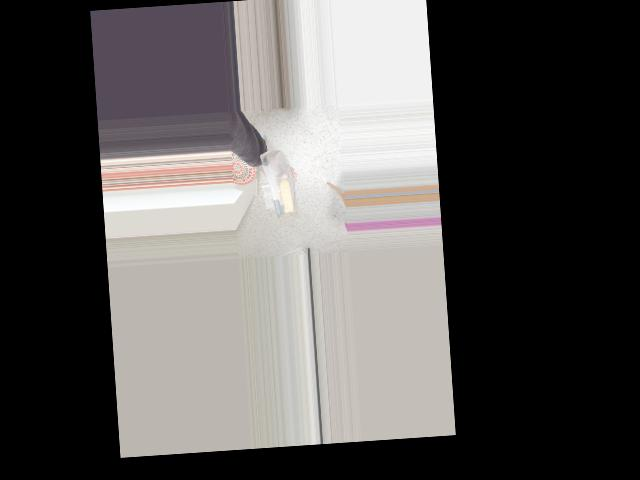cheese: (257, 146, 297, 217)
